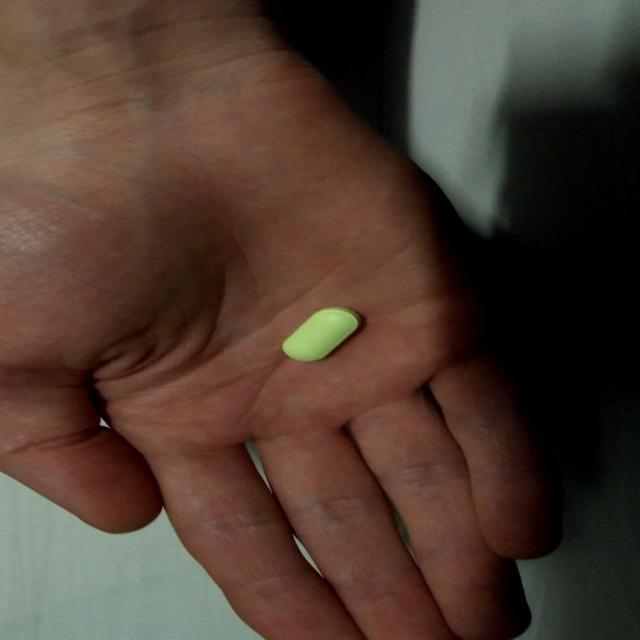pill: (281, 305, 371, 362)
